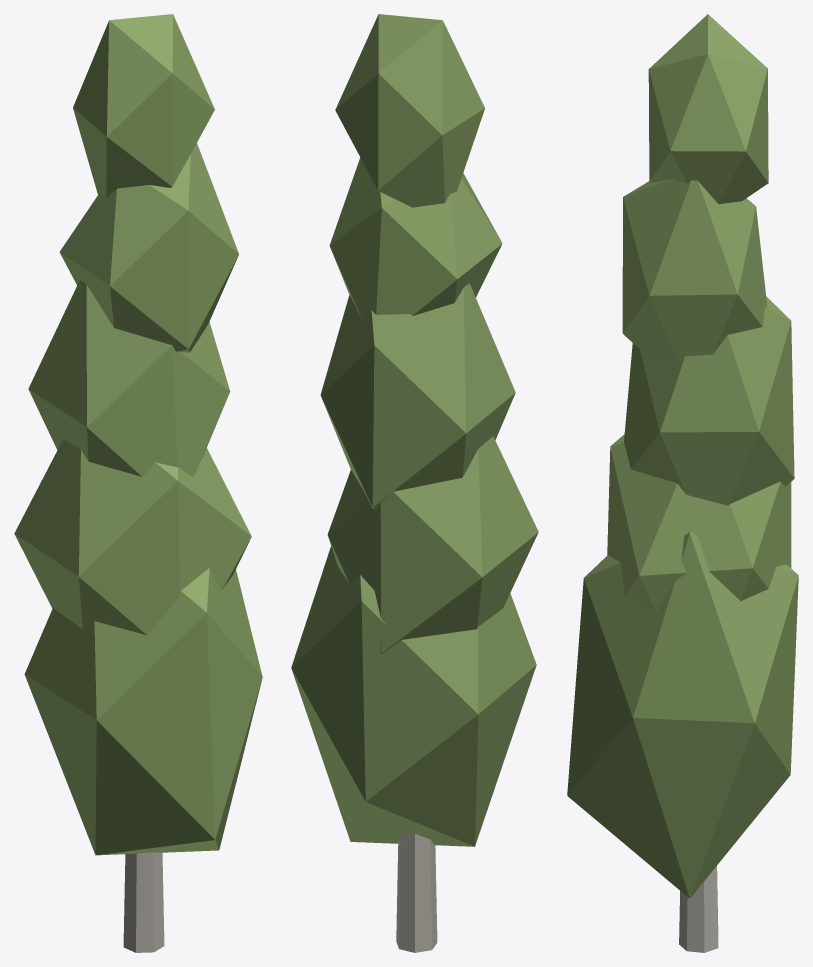
The model's file is env_alamos.glb.
3 renders of one model, left to right at view 1: azimuth 30°, elevation 25°; view 2: azimuth 150°, elevation 25°; view 3: azimuth 270°, elevation 25°, orthographic. The views are drawn at different scales.
Parts seen in each view (by area): view 1: alamos; view 2: alamos; view 3: alamos.
Part boxes in pixels (<box>): alamos: <box>14,14,262,952</box>; alamos: <box>291,14,538,952</box>; alamos: <box>567,14,798,952</box>.
Size of the model in its own units: 2.13 by 9.74 by 2.23.
